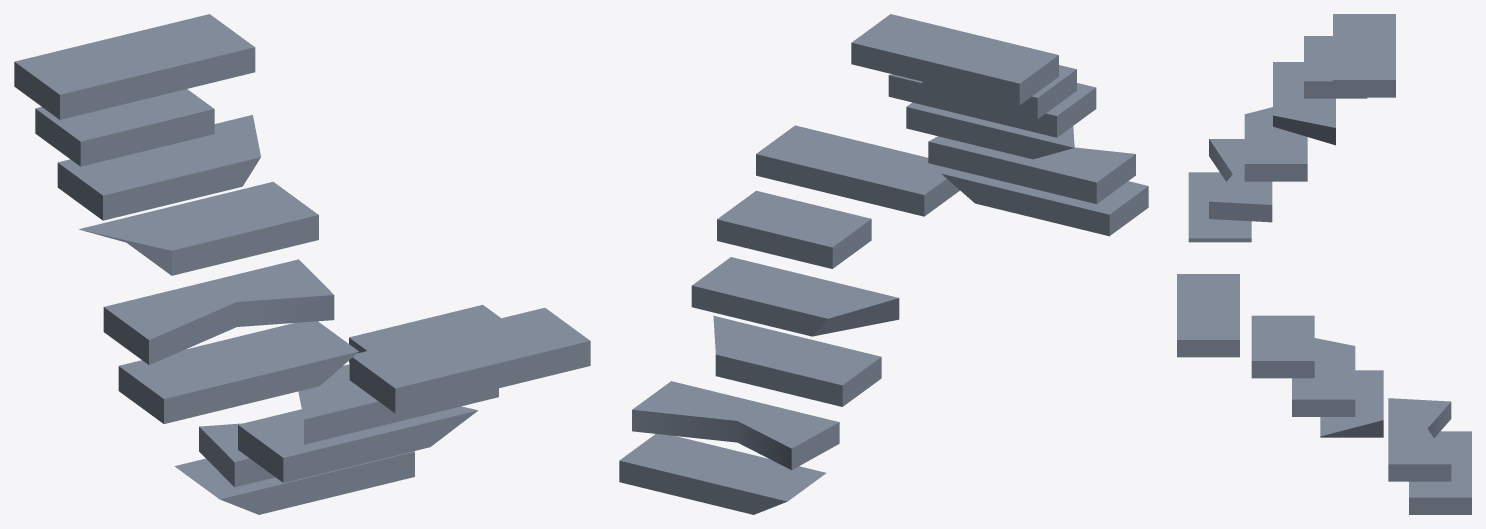
File: 1_Stairs.fbx
The picture shows the model from 3 angles, left to right: view 1: azimuth 30°, elevation 25°; view 2: azimuth 150°, elevation 25°; view 3: azimuth 270°, elevation 25°; orthographic projection. The views are drawn at different scales.
Parts seen in each view (by area): view 1: pasted__pCube8, pasted__pCube14, pasted__pCube4, pasted__pCube3, pasted__pCube5, pasted__pCube6, pasted__pCube11, pasted__pCube7, pasted__pCube9, pasted__pCube12, pasted__pCube13, pasted__pCube10; view 2: pasted__pCube8, pasted__pCube14, pasted__pCube12, pasted__pCube10, pasted__pCube9, pasted__pCube11, pasted__pCube13, pasted__pCube3, pasted__pCube4, pasted__pCube5, pasted__pCube6, pasted__pCube7; view 3: pasted__pCube14, pasted__pCube8, pasted__pCube10, pasted__pCube13, pasted__pCube12, pasted__pCube5, pasted__pCube3, pasted__pCube6, pasted__pCube9, pasted__pCube4, pasted__pCube11, pasted__pCube7.
Boxes of the visible parts, x1,y1,x2,y2 form: pasted__pCube8: (14,14,255,119); pasted__pCube14: (349,307,590,413); pasted__pCube4: (118,321,358,423); pasted__pCube3: (103,259,334,364); pasted__pCube5: (79,181,318,275); pasted__pCube6: (57,115,260,220); pasted__pCube11: (238,406,477,482); pasted__pCube7: (35,89,214,166); pasted__pCube9: (174,451,414,514); pasted__pCube12: (298,364,498,444); pasted__pCube13: (349,305,500,362); pasted__pCube10: (199,423,274,487); pasted__pCube8: (851,14,1058,105); pasted__pCube14: (756,125,959,216); pasted__pCube12: (691,257,899,336); pasted__pCube10: (632,381,839,470); pasted__pCube9: (619,434,826,514); pasted__pCube11: (713,315,881,406); pasted__pCube13: (717,190,871,268); pasted__pCube3: (928,136,1135,204); pasted__pCube4: (941,168,1148,236); pasted__pCube5: (906,102,1074,159); pasted__pCube6: (888,74,1096,137); pasted__pCube7: (922,65,1076,119); pasted__pCube14: (1177,274,1239,357); pasted__pCube8: (1333,14,1395,97); pasted__pCube10: (1388,398,1451,481); pasted__pCube13: (1251,315,1314,378); pasted__pCube12: (1292,338,1355,416); pasted__pCube5: (1244,107,1307,181); pasted__pCube3: (1209,139,1272,222); pasted__pCube6: (1273,62,1335,145); pasted__pCube9: (1409,431,1471,514); pasted__pCube4: (1188,172,1251,242); pasted__pCube11: (1320,370,1383,437); pasted__pCube7: (1304,36,1367,98).
Size of the model in its own units: 3.51 by 4.19 by 3.09.
